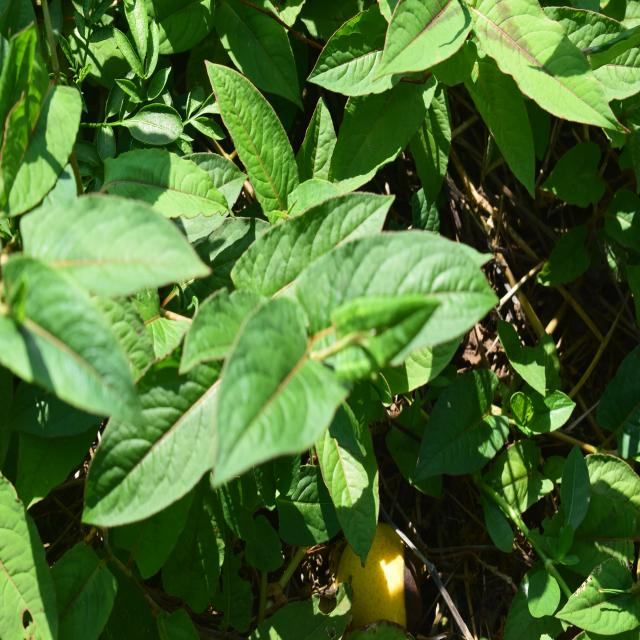Chinese_knotweed: (150, 217, 473, 506)
